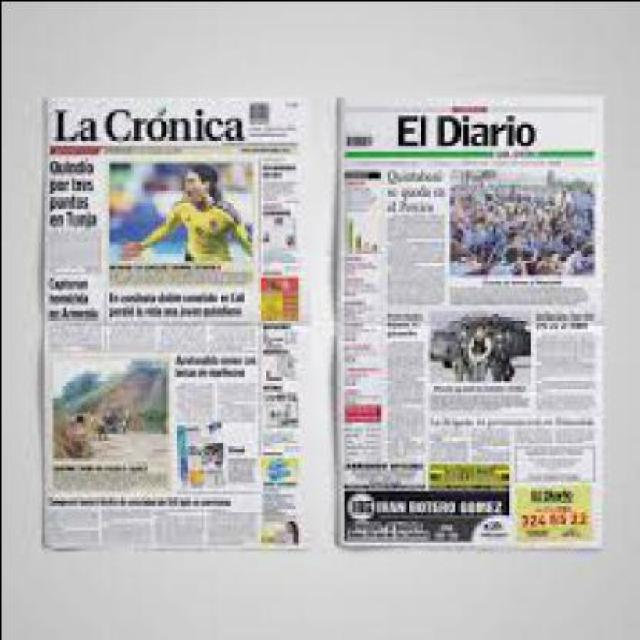PAPER: (332, 96, 600, 547), (38, 90, 302, 547)
